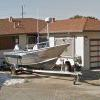Boat: (2, 36, 72, 81)
